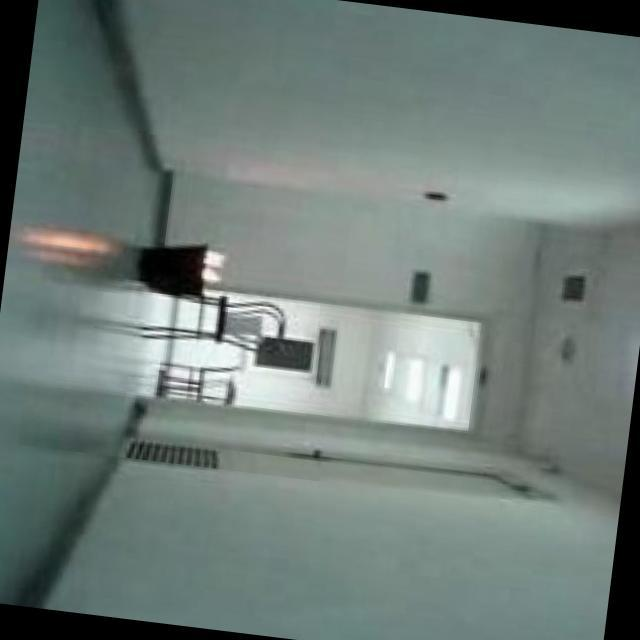Fire: (203, 248, 233, 301)
